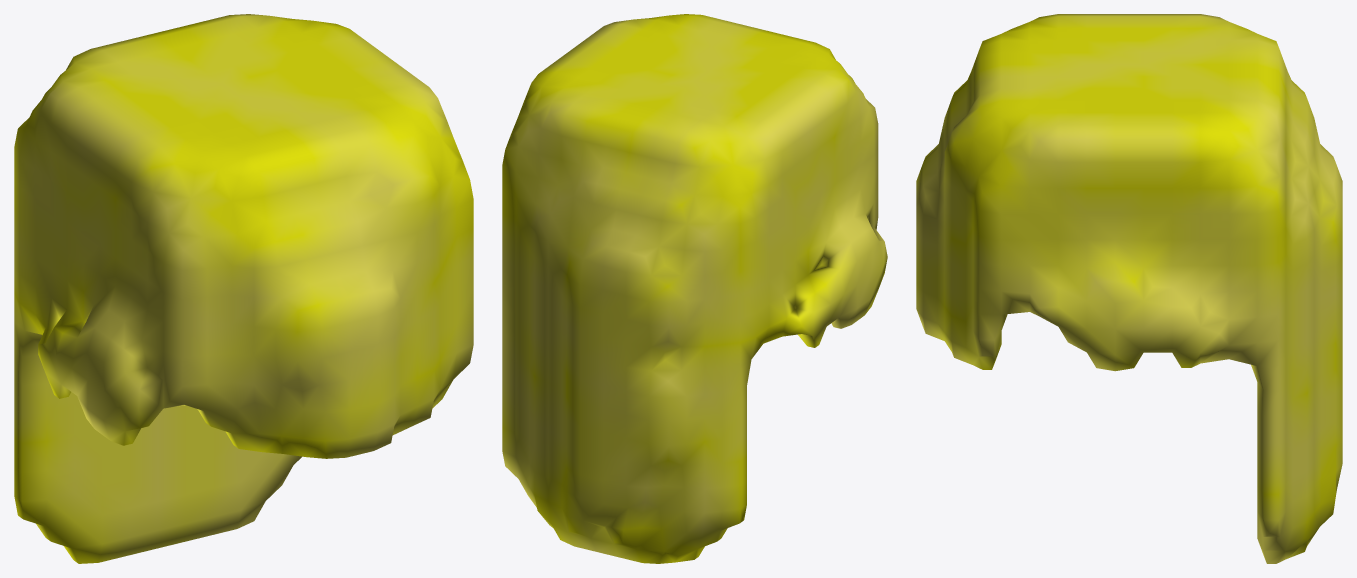
3 views of the same model, side by side, from view 1: azimuth 30°, elevation 25°; view 2: azimuth 150°, elevation 25°; view 3: azimuth 270°, elevation 25° (orthographic). The views are drawn at different scales.
Size of the model in its own units: 0.65 by 0.9 by 0.75.
